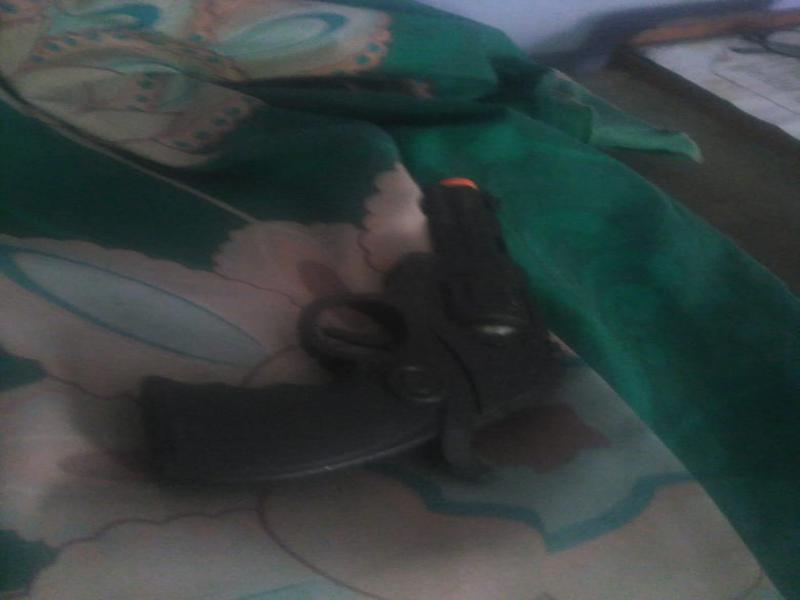gun: (127, 163, 604, 493)
